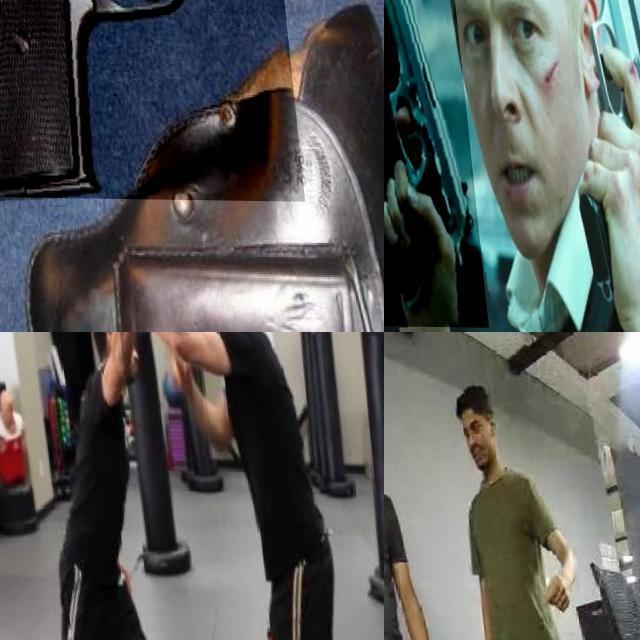-: (104, 332, 186, 368)
gun-knife-thesis - v11 Yolov5 augmented: (0, 0, 296, 200), (533, 0, 640, 301), (384, 0, 477, 326)
